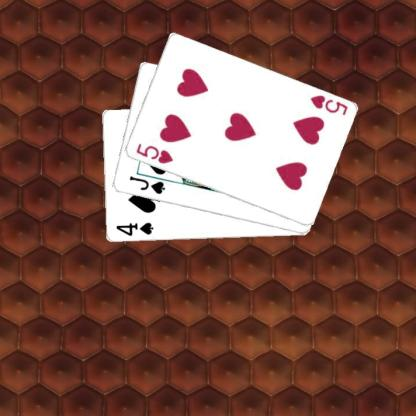4S: (113, 220, 154, 238)
5H: (307, 92, 348, 117), (133, 141, 174, 165)
JS: (127, 173, 166, 196)
